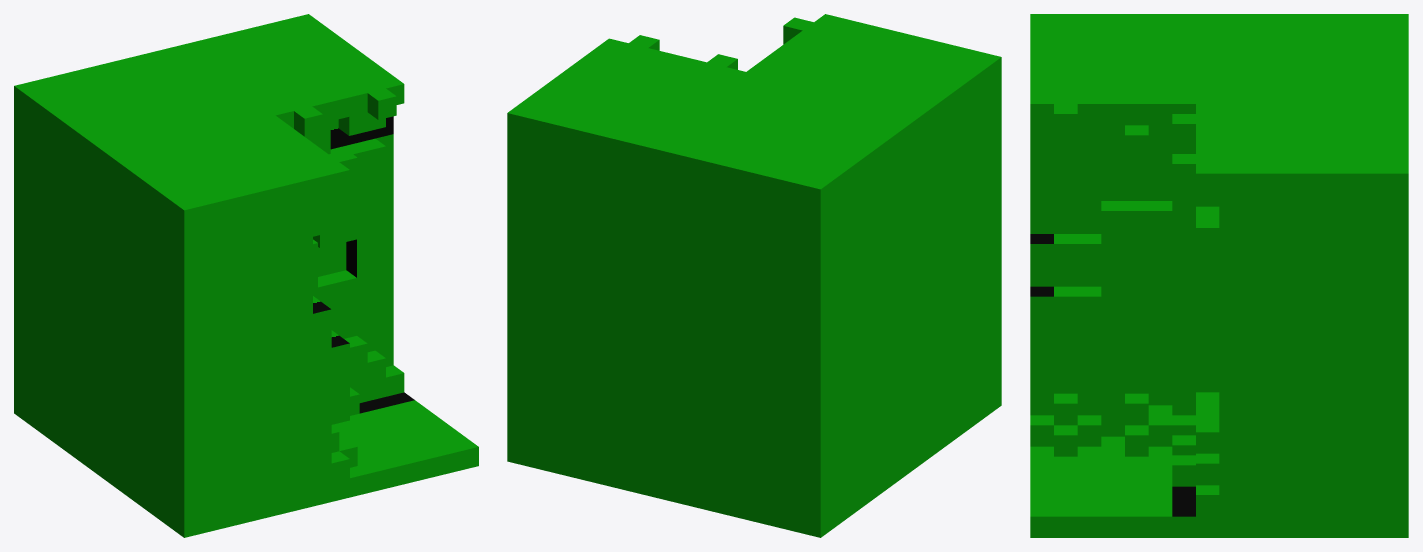
File: Corner5.fbx
3 views of the same model, side by side, from view 1: azimuth 30°, elevation 25°; view 2: azimuth 150°, elevation 25°; view 3: azimuth 270°, elevation 25° (orthographic). The views are drawn at different scales.
Parts seen in each view (by area): view 1: Cliff, Ground; view 2: Cliff, Ground; view 3: Cliff, Ground.
Boxes of the visible parts, x1,y1,x2,y2 form: Cliff: (14,105,393,537); Ground: (14,14,478,501); Cliff: (507,78,1001,537); Ground: (507,14,1001,209); Cliff: (1030,125,1408,537); Ground: (1030,14,1408,537).
Bounding box in the file's own units: 16 × 17 × 16.
